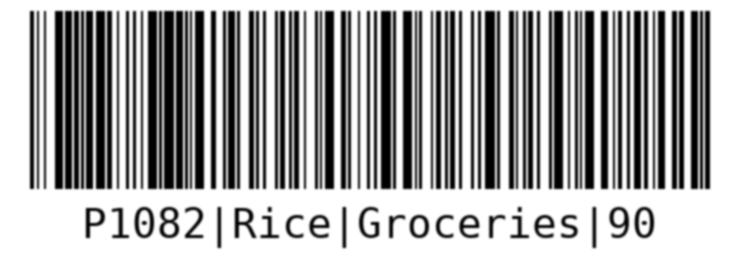milk: (23, 5, 715, 255)
